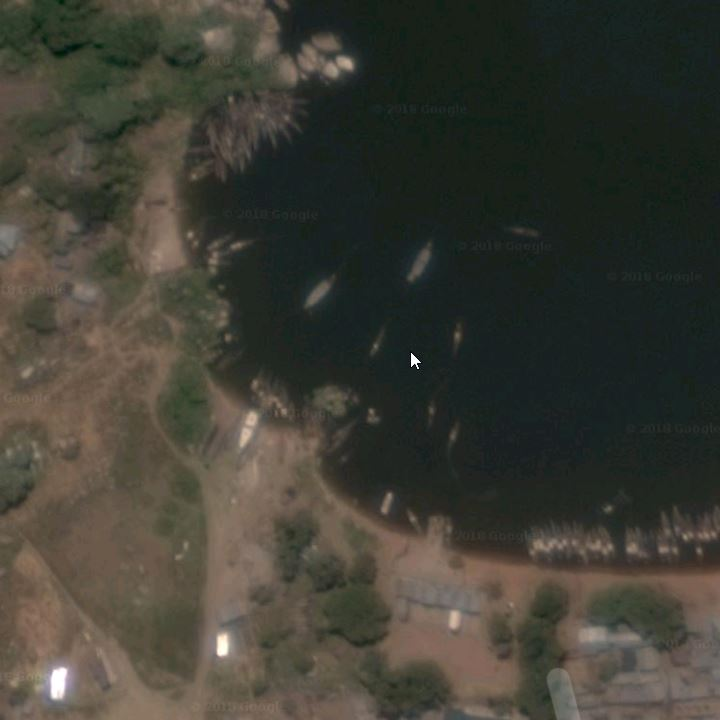boat: (300, 263, 342, 313), (405, 231, 432, 285), (366, 315, 393, 366), (418, 394, 441, 441), (209, 225, 236, 263), (375, 480, 397, 526), (404, 505, 430, 542), (246, 363, 265, 413), (211, 136, 231, 183), (442, 420, 461, 464), (258, 372, 274, 423), (198, 109, 218, 149), (505, 222, 547, 241), (238, 129, 259, 164), (522, 527, 538, 571), (181, 213, 208, 239), (273, 381, 289, 424), (450, 315, 465, 360), (282, 108, 306, 134), (282, 100, 313, 120), (232, 88, 247, 129), (553, 526, 567, 569), (692, 506, 707, 546), (250, 117, 267, 152), (266, 113, 283, 148), (189, 224, 209, 253), (260, 90, 274, 131), (269, 382, 283, 423), (234, 136, 249, 174), (222, 91, 237, 129), (670, 496, 682, 542), (215, 242, 254, 256), (275, 113, 294, 141), (692, 529, 707, 564), (702, 506, 715, 546), (657, 505, 671, 542), (602, 525, 616, 562), (280, 92, 314, 107), (622, 522, 633, 567), (594, 525, 606, 564), (248, 89, 258, 135), (545, 524, 557, 560), (663, 525, 673, 567), (528, 526, 539, 564), (637, 525, 647, 566), (563, 524, 572, 569), (629, 522, 638, 567), (286, 393, 299, 424), (657, 525, 666, 569), (712, 500, 720, 549), (555, 521, 563, 567), (606, 527, 617, 560), (579, 521, 587, 565), (588, 521, 596, 564), (670, 522, 678, 565), (682, 505, 691, 542), (540, 522, 547, 564), (573, 523, 579, 567)
